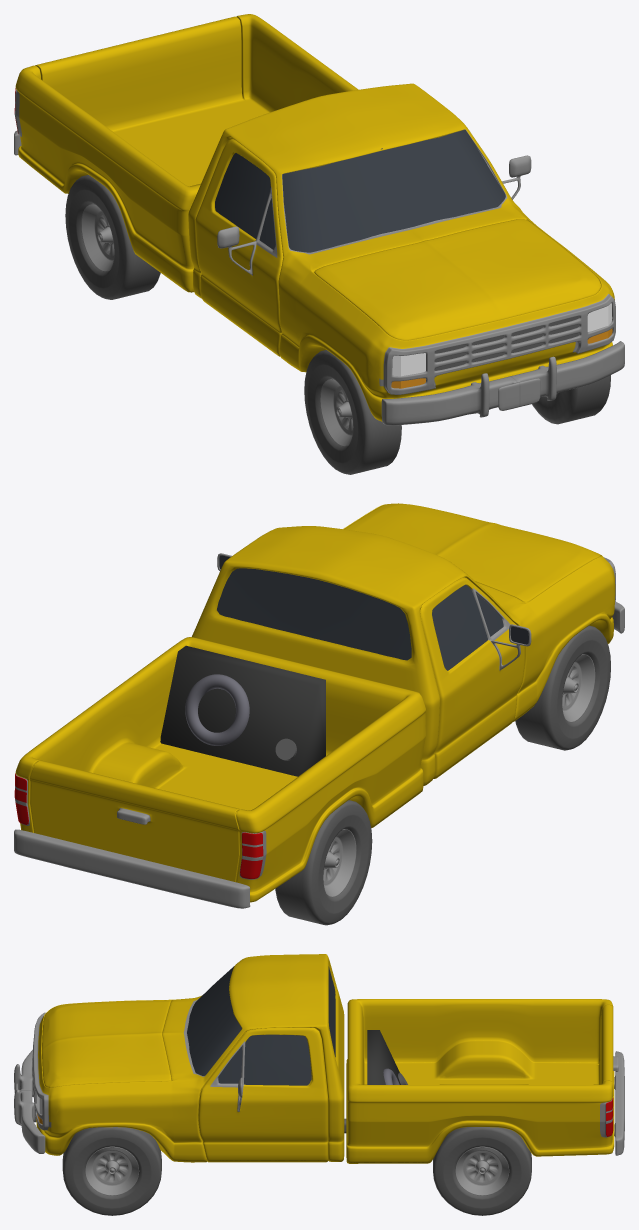
Rendered from Pick-UpMetade.glb.
The picture shows the model from 3 angles, top to bottom: view 1: azimuth 30°, elevation 25°; view 2: azimuth 150°, elevation 25°; view 3: azimuth 270°, elevation 25°; orthographic projection. The views are drawn at different scales.
Visible parts, largest first — view 1: Cube, Cubo, Plane, Círculo.004, Círculo.007, Círculo.001, Círculo.006, Círculo.005, Cubo.004, Cubo.002; view 2: Cubo, Cube, Plane, Cube.001, Círculo.007, Círculo.004, Torus, Círculo.006, Círculo.005; view 3: Cube, Cubo, Plane, Círculo.001, Círculo.002, Círculo.003, Círculo, Cube.001.
Part boxes in pixels (bbox=[...]): Cube: bbox=[188, 83, 624, 425]; Cubo: bbox=[14, 14, 358, 292]; Plane: bbox=[215, 129, 505, 252]; Círculo.004: bbox=[304, 350, 401, 474]; Círculo.007: bbox=[65, 175, 160, 299]; Círculo.001: bbox=[532, 375, 610, 424]; Círculo.006: bbox=[81, 203, 114, 271]; Círculo.005: bbox=[320, 378, 353, 446]; Cubo.004: bbox=[434, 316, 579, 370]; Cubo.002: bbox=[392, 303, 612, 376]; Cubo: bbox=[14, 637, 425, 908]; Cube: bbox=[192, 503, 624, 785]; Plane: bbox=[217, 555, 528, 670]; Cube.001: bbox=[160, 645, 325, 776]; Círculo.007: bbox=[275, 800, 372, 925]; Círculo.004: bbox=[515, 625, 610, 750]; Torus: bbox=[185, 674, 249, 745]; Círculo.006: bbox=[323, 829, 356, 896]; Círculo.005: bbox=[562, 654, 595, 722]; Cube: bbox=[14, 954, 344, 1162]; Cubo: bbox=[346, 999, 624, 1163]; Plane: bbox=[187, 966, 335, 1085]; Círculo.001: bbox=[62, 1127, 161, 1215]; Círculo.002: bbox=[433, 1127, 531, 1215]; Círculo.003: bbox=[455, 1146, 509, 1195]; Círculo: bbox=[85, 1146, 139, 1195]; Cube.001: bbox=[367, 1030, 400, 1084].
Size of the model in its own units: 3.05 by 2.28 by 6.65.
